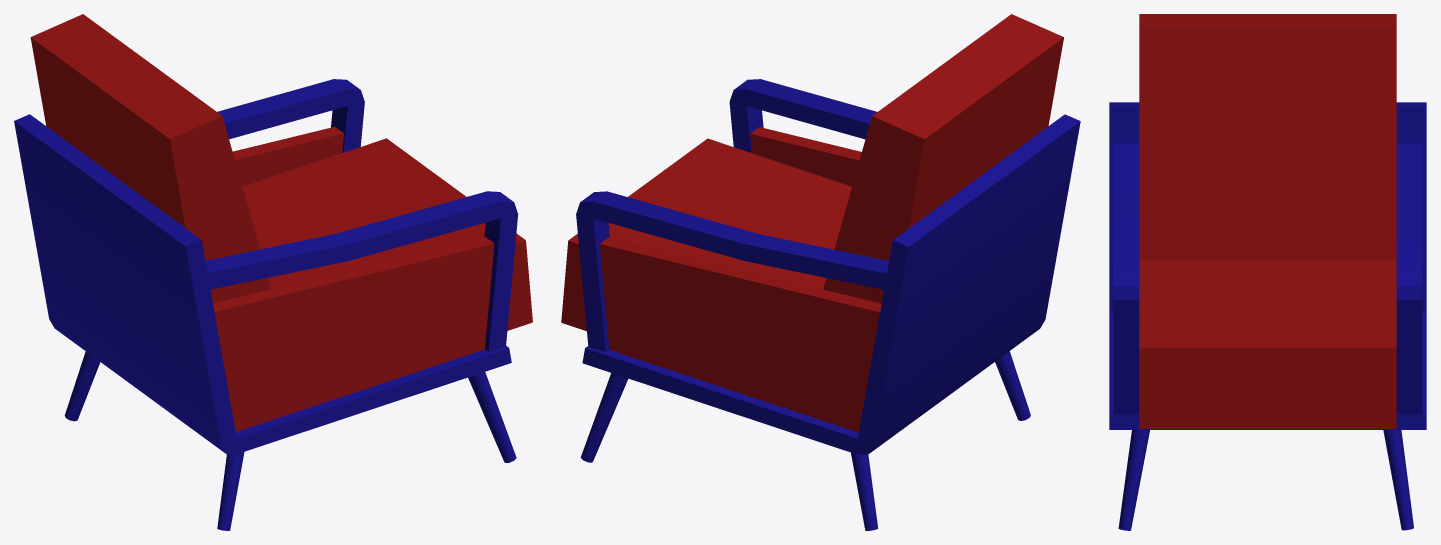
File: SM_Fauteuil.FBX
The picture shows the model from 3 angles, left to right: view 1: azimuth 30°, elevation 25°; view 2: azimuth 150°, elevation 25°; view 3: azimuth 270°, elevation 25°; orthographic projection. The views are drawn at different scales.
Parts seen in each view (by area): view 1: SM_Fauteuil; view 2: SM_Fauteuil; view 3: SM_Fauteuil.
Boxes of the visible parts, x1,y1,x2,y2 form: SM_Fauteuil: (14, 14, 532, 530); SM_Fauteuil: (561, 14, 1080, 530); SM_Fauteuil: (1109, 14, 1426, 530).
Size of the model in its own units: 90.35 by 97.17 by 74.
